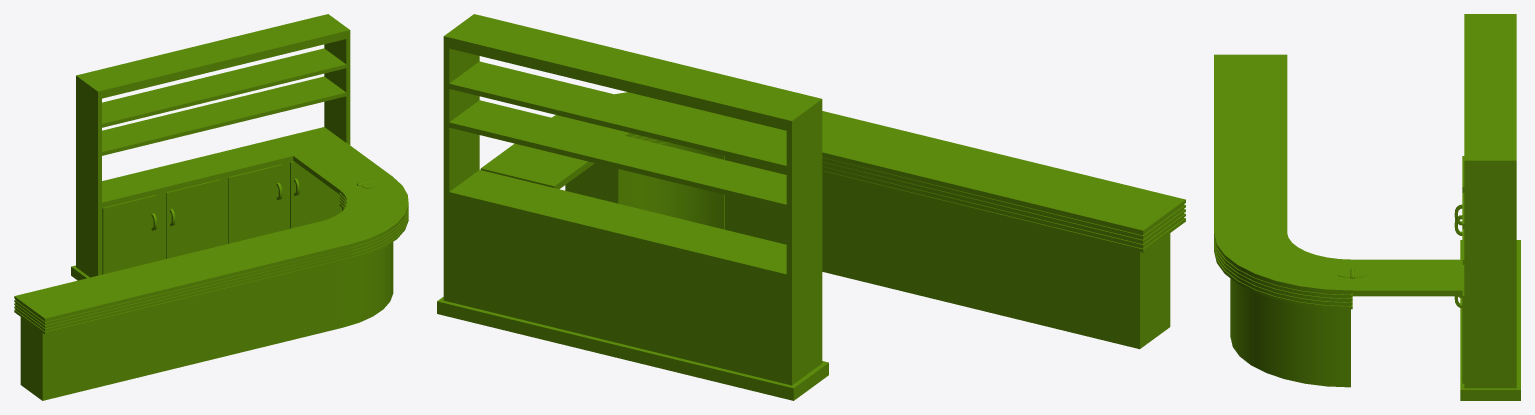
Rendered from Bar.FBX.
The picture shows the model from 3 angles, left to right: view 1: azimuth 30°, elevation 25°; view 2: azimuth 150°, elevation 25°; view 3: azimuth 270°, elevation 25°; orthographic projection. The views are drawn at different scales.
Visible parts, largest first — view 1: uvlayout3; view 2: uvlayout3; view 3: uvlayout3.
Boxes of the visible parts, left/top/right/bottom form: uvlayout3: left=14, top=14, right=408, bottom=400; uvlayout3: left=437, top=14, right=1185, bottom=400; uvlayout3: left=1214, top=14, right=1520, bottom=400.
Size of the model in its own units: 5.38 by 2.91 by 2.49.
